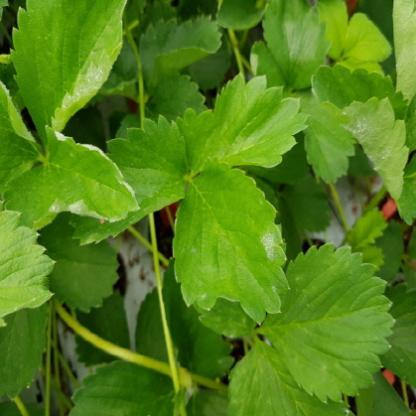Strawberry_Powdery_Mildew_Leaf: (172, 154, 291, 327), (8, 0, 127, 154), (1, 125, 142, 231), (310, 63, 410, 202)
